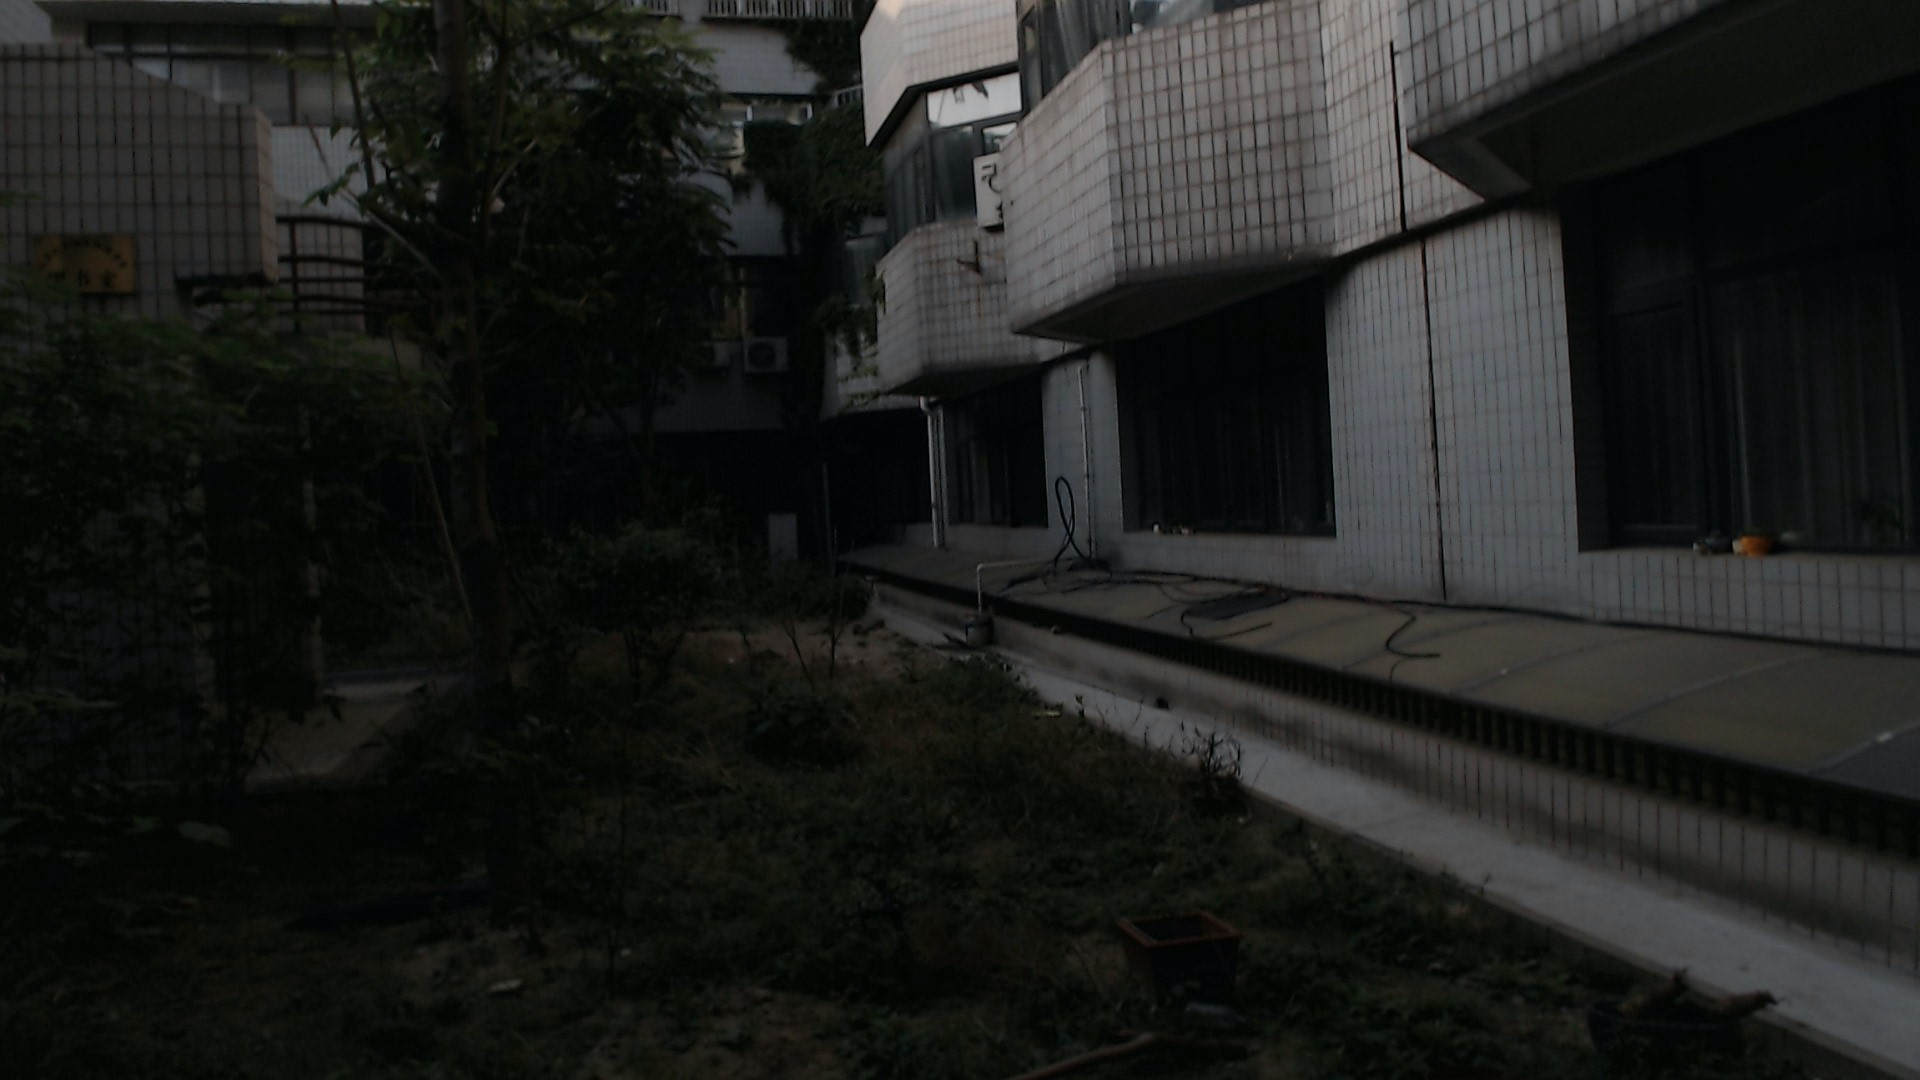drone: (814, 837, 994, 992)
